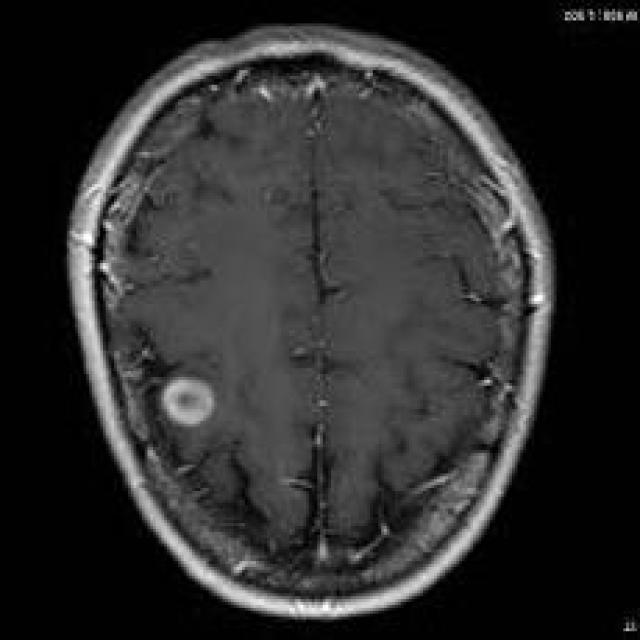Tumor-Cell: (152, 363, 228, 453)
